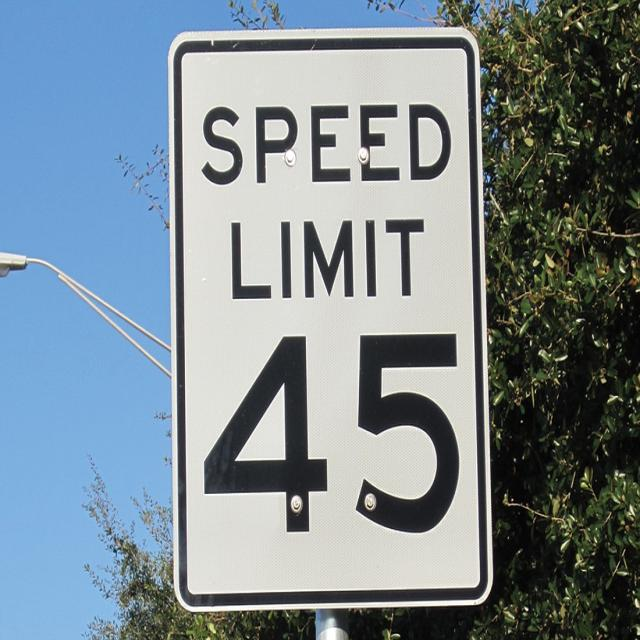speedLimit45: (167, 22, 498, 616)
